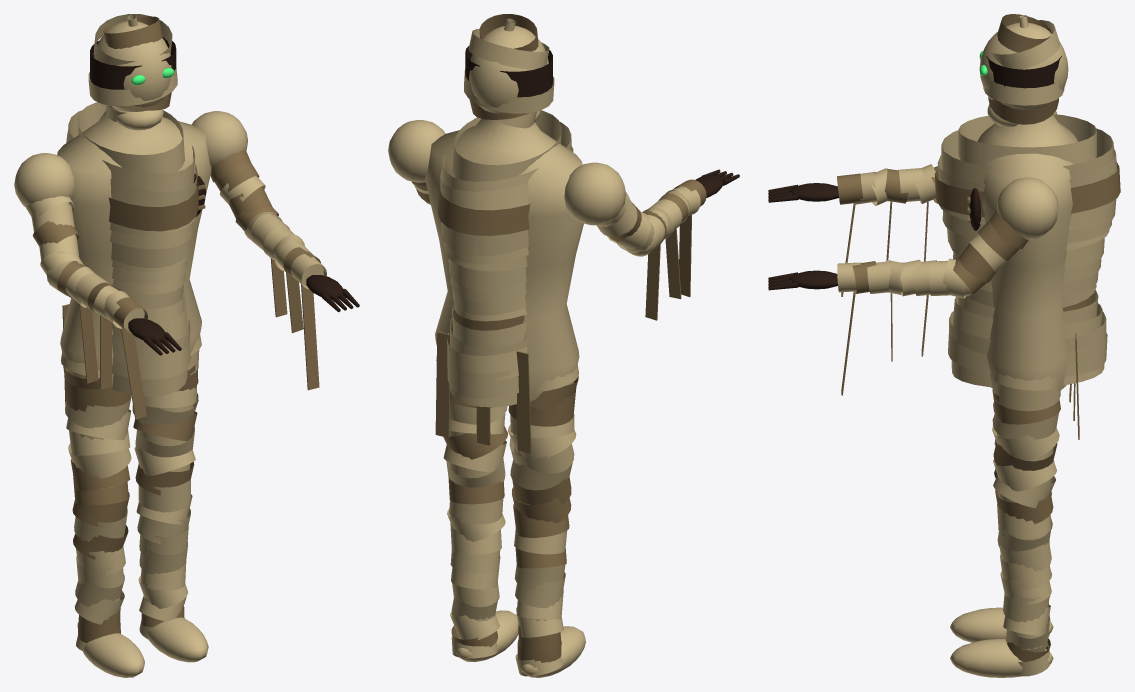
The model's file is mummy.obj.
The picture shows the model from 3 angles, left to right: view 1: azimuth 30°, elevation 25°; view 2: azimuth 150°, elevation 25°; view 3: azimuth 270°, elevation 25°; orthographic projection.
Parts seen in each view (by area): view 1: body, leg_n, leg_p, arm_n, arm_p; view 2: body, leg_n, leg_p, arm_n, arm_p; view 3: body, leg_p, arm_p, arm_n, leg_n.
Boxes of the visible parts, x1,y1,x2,y2 form: body: (57, 14, 211, 405); leg_n: (61, 352, 144, 677); leg_p: (132, 334, 208, 662); arm_n: (14, 153, 181, 419); arm_p: (192, 111, 359, 390); body: (425, 14, 583, 453); leg_n: (508, 365, 585, 677); leg_p: (436, 360, 518, 662); arm_n: (564, 162, 739, 320); arm_p: (388, 120, 445, 204); body: (934, 14, 1120, 439); leg_p: (950, 373, 1060, 677); arm_p: (768, 177, 1058, 395); arm_n: (768, 111, 1056, 296); leg_n: (950, 402, 1054, 642).
Bounding box in the file's own units: 0.7259 × 1.92 × 0.9518.
